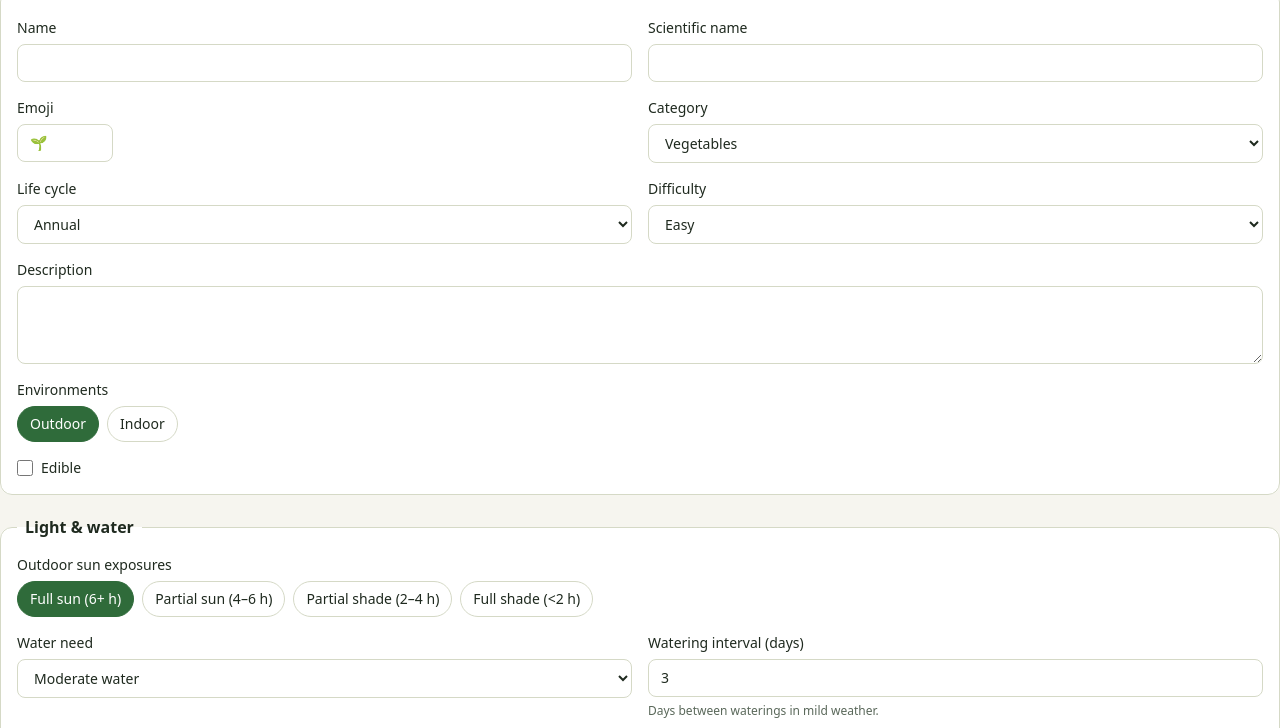
Test case: CustomPlantForm › selects companions from the catalog with a filter
The image size is (1280, 728).
Later steps or results of the test are not shown.
Type "Marigold" into the field labelled "Name".
click(324, 63); type("Marigold")  # box [17, 44, 632, 82]
(page scrolled)
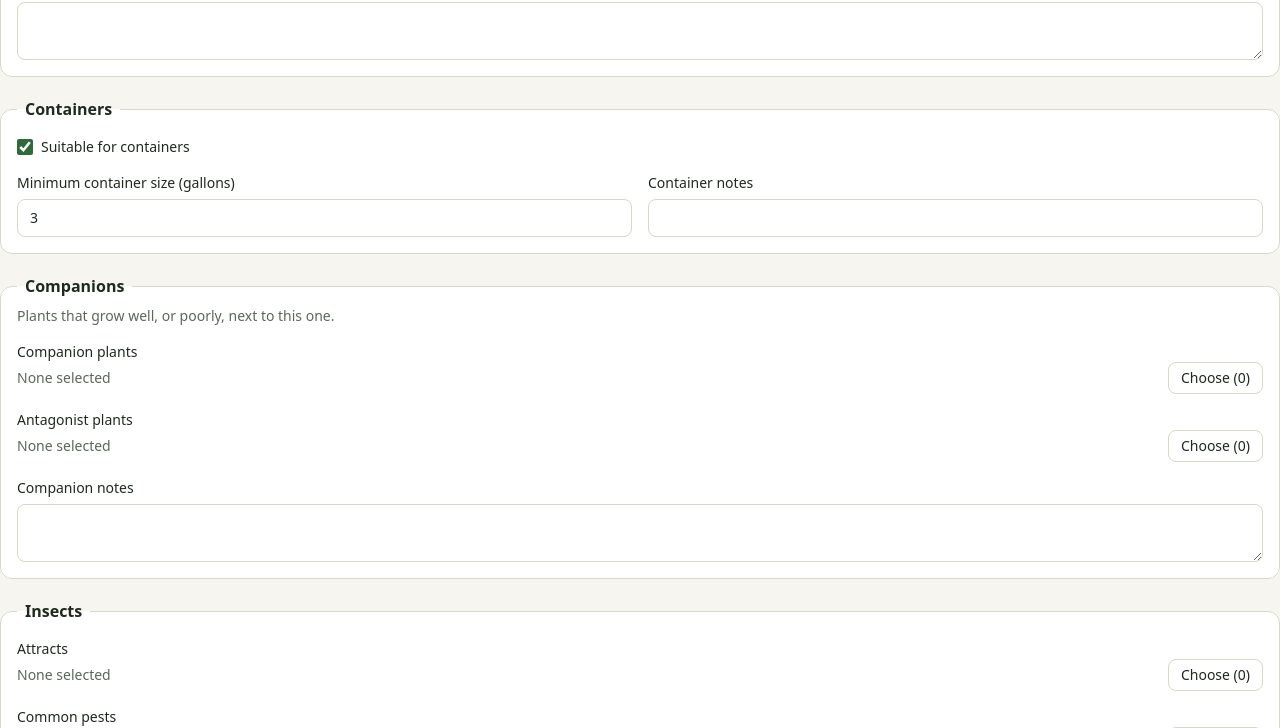
Expected: the text "None selected" below "Companion plants" is shown, [17, 368, 111, 387]
Click the button with aria-label "Choose Companion plants".
click(1215, 378)  # box [1168, 362, 1263, 394]
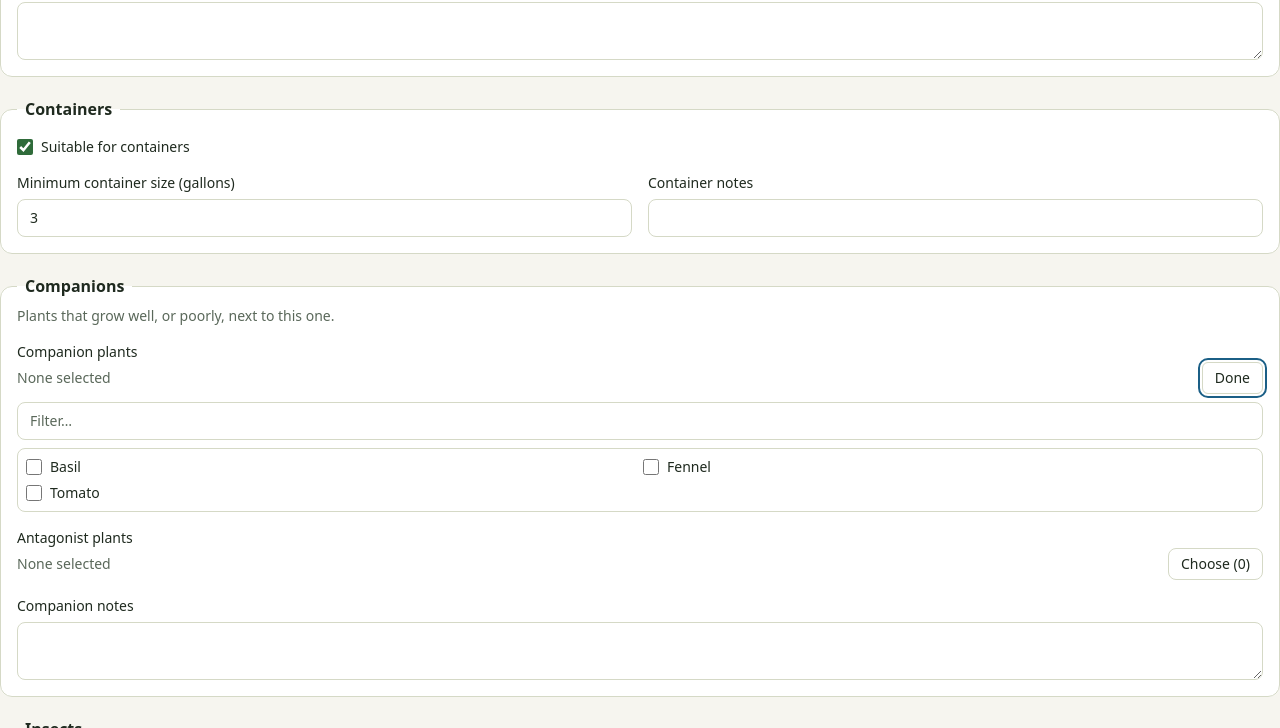
Type "bas" into the search field named "Filter Companion plants".
click(640, 421); type("bas")  # box [17, 402, 1263, 440]
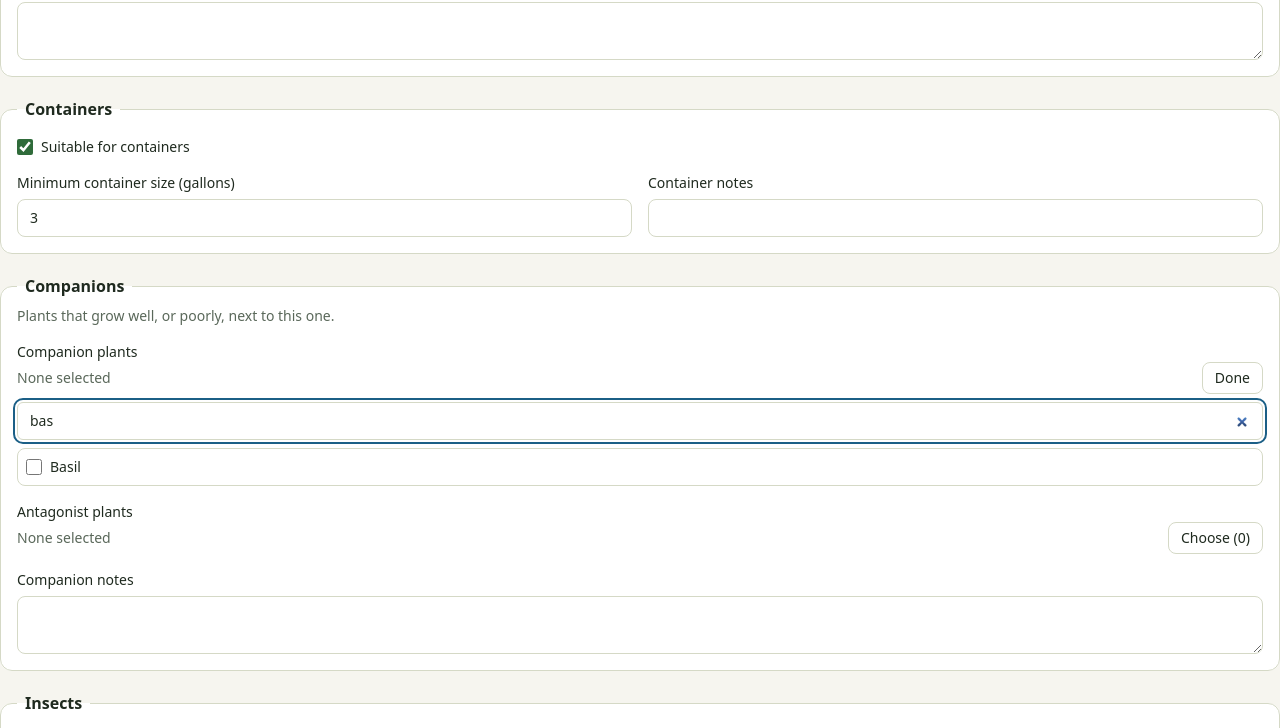
Result: the label "Tomato" is gone
Click the checkbox labelled "Basil".
click(34, 467)  # box [26, 459, 42, 475]
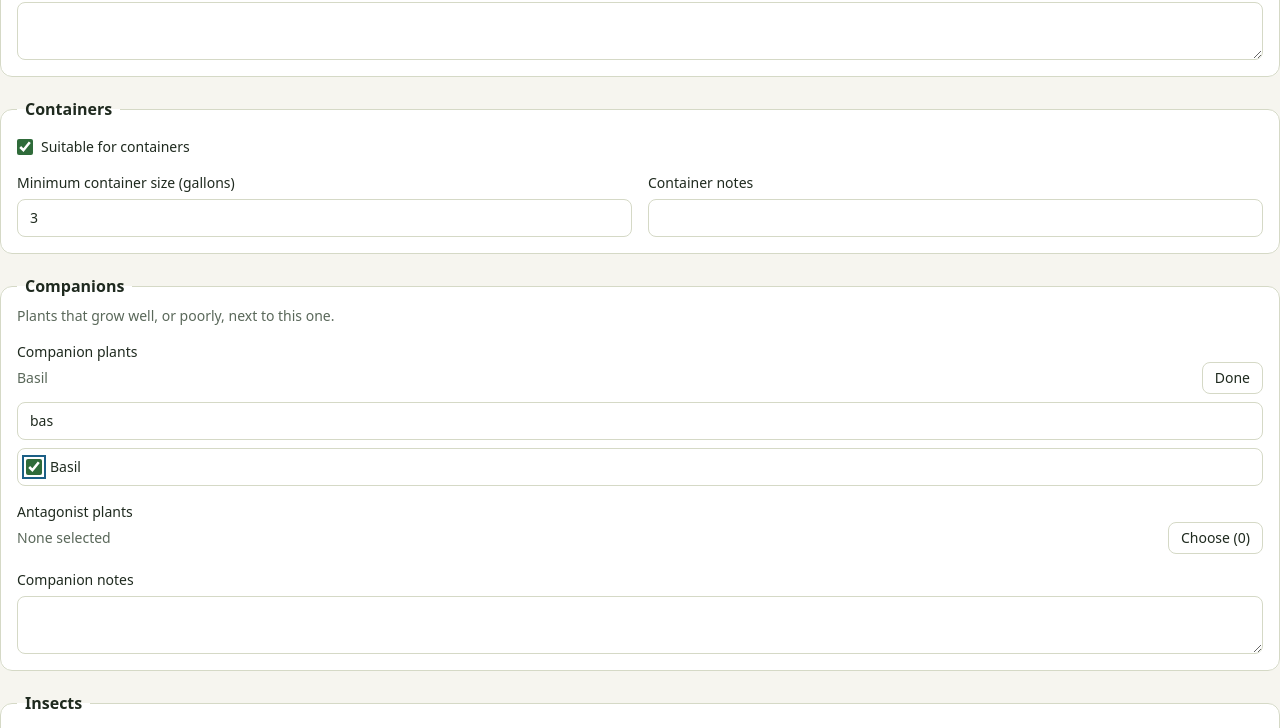
Result: the text "Basil" is shown at [17, 368, 48, 388]
